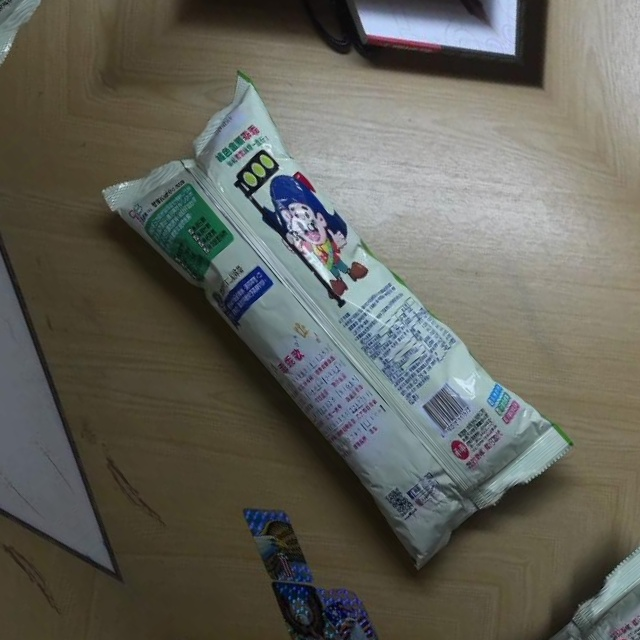Good-Luck: (91, 58, 576, 580)
